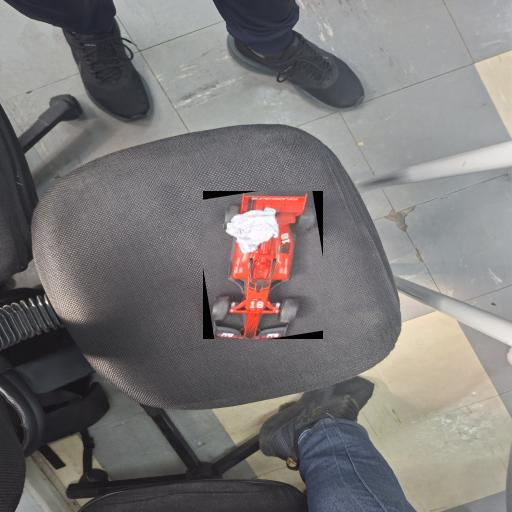carro: (204, 191, 322, 338)
